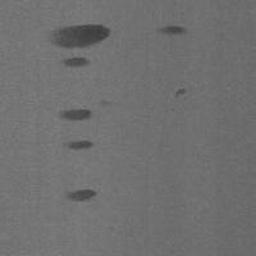Oil spot: (45, 22, 111, 50), (55, 108, 95, 123), (64, 188, 99, 204), (154, 24, 191, 37), (59, 55, 90, 69), (96, 97, 122, 113), (61, 140, 95, 151), (174, 87, 189, 100)
